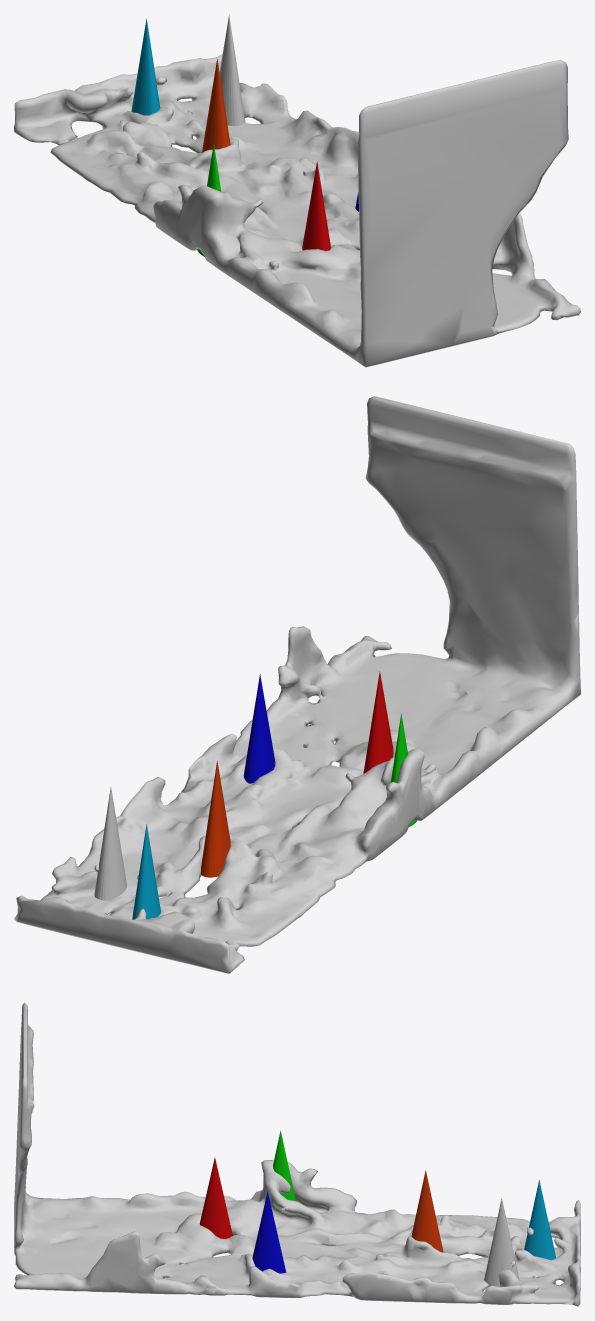
3 views of the same model, one above another, from view 1: azimuth 30°, elevation 25°; view 2: azimuth 150°, elevation 25°; view 3: azimuth 270°, elevation 25° (orthographic). The views are drawn at different scales.
Visible parts, largest first — view 1: Liquid_Domain, 円錐, 円錐.005, 円錐.001, 円錐.004; view 2: Liquid_Domain, 円錐, 円錐.004, 円錐.002, 円錐.001, 円錐.005; view 3: Liquid_Domain, 円錐.002, 円錐, 円錐.001, 円錐.005, 円錐.004, 円錐.003.
Part boxes in pixels (x1,y1,x2,y2): Liquid_Domain: (14, 54, 580, 367); 円錐: (219, 14, 245, 126); 円錐.005: (131, 18, 160, 115); 円錐.001: (302, 161, 330, 250); 円錐.004: (202, 59, 230, 152); Liquid_Domain: (14, 396, 580, 973); 円錐: (94, 786, 126, 900); 円錐.004: (200, 760, 230, 877); 円錐.002: (243, 674, 275, 783); 円錐.001: (363, 671, 393, 773); 円錐.005: (132, 824, 160, 919); Liquid_Domain: (14, 1002, 580, 1306); 円錐.002: (252, 1191, 286, 1273); 円錐: (484, 1198, 519, 1286); 円錐.001: (199, 1157, 232, 1238); 円錐.005: (524, 1180, 556, 1260); 円錐.004: (411, 1170, 443, 1252); 円錐.003: (273, 1130, 295, 1200).
Bounding box in the file's own units: 129 × 158 × 361.
